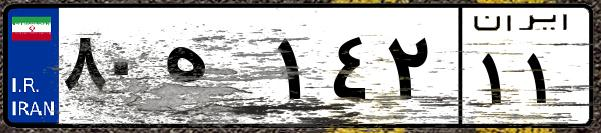0: (110, 28, 158, 98)
1: (270, 28, 330, 110), (475, 38, 525, 113), (525, 38, 570, 115)
2: (385, 28, 445, 110)
4: (330, 28, 385, 110)
8: (57, 26, 110, 100)
ه: (158, 20, 270, 120)
